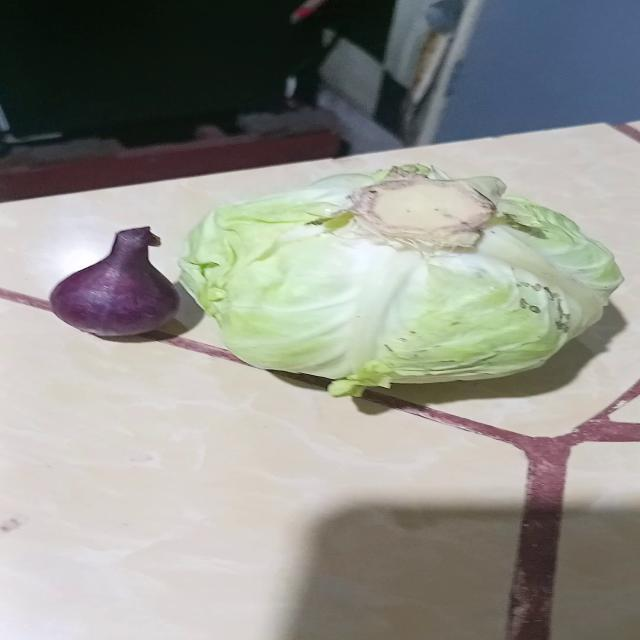cabbage: (179, 170, 625, 399)
onion: (47, 225, 186, 343)
